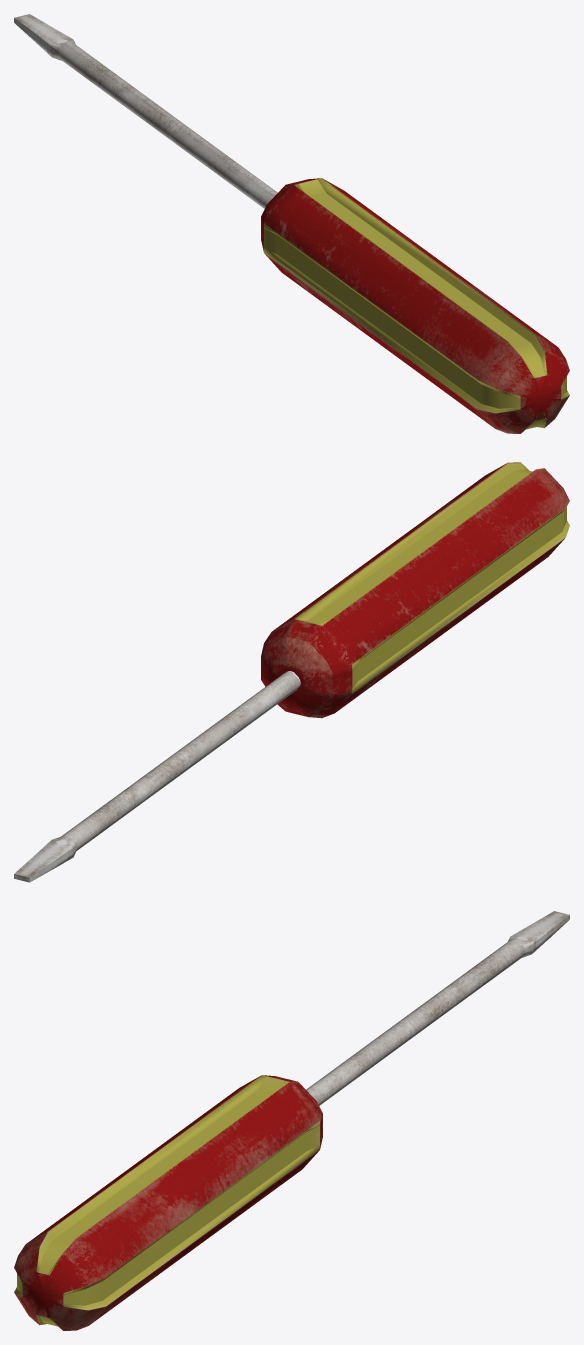
Rendered from ScrewDriver.fbx.
3 views of the same model, one above another, from view 1: azimuth 30°, elevation 25°; view 2: azimuth 150°, elevation 25°; view 3: azimuth 330°, elevation 25° (orthographic).
Visible parts, largest first — view 1: ScrewDriver; view 2: ScrewDriver; view 3: ScrewDriver.
Part boxes in pixels (box(x1,y1,x2,y2)): ScrewDriver: box(14, 14, 569, 433); ScrewDriver: box(14, 462, 569, 882); ScrewDriver: box(14, 911, 569, 1330).
Size of the model in its own units: 2.45 by 2.45 by 24.97.
Materials: 1 (1 with a texture image).
